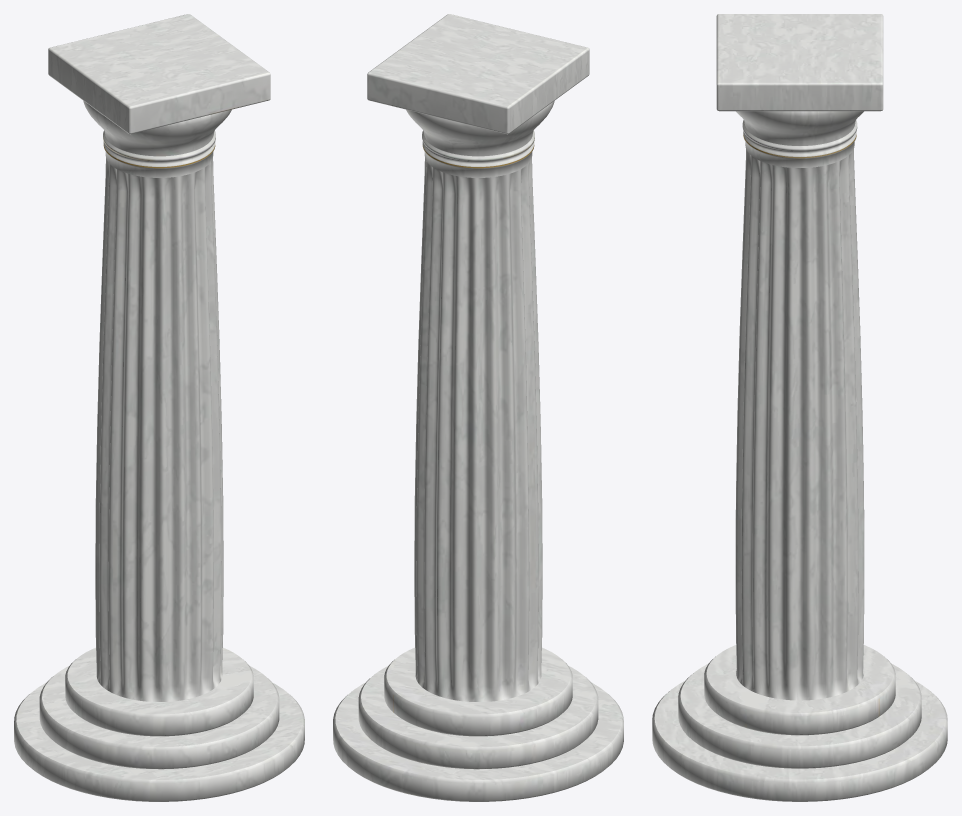
Rendered from doric_column.glb.
3 renders of one model, left to right at view 1: azimuth 30°, elevation 25°; view 2: azimuth 150°, elevation 25°; view 3: azimuth 270°, elevation 25°, orthographic.
Visible parts, largest first — view 1: Doric Column • three-step circular base; view 2: Doric Column • three-step circular base; view 3: Doric Column • three-step circular base.
Part boxes in pixels (bbox=[...]): Doric Column • three-step circular base: bbox=[14, 14, 304, 801]; Doric Column • three-step circular base: bbox=[333, 14, 623, 801]; Doric Column • three-step circular base: bbox=[652, 14, 947, 801].
Bounding box in the file's own units: 2.16 × 5.58 × 2.16.
Materials: 3 (3 with a texture image).
